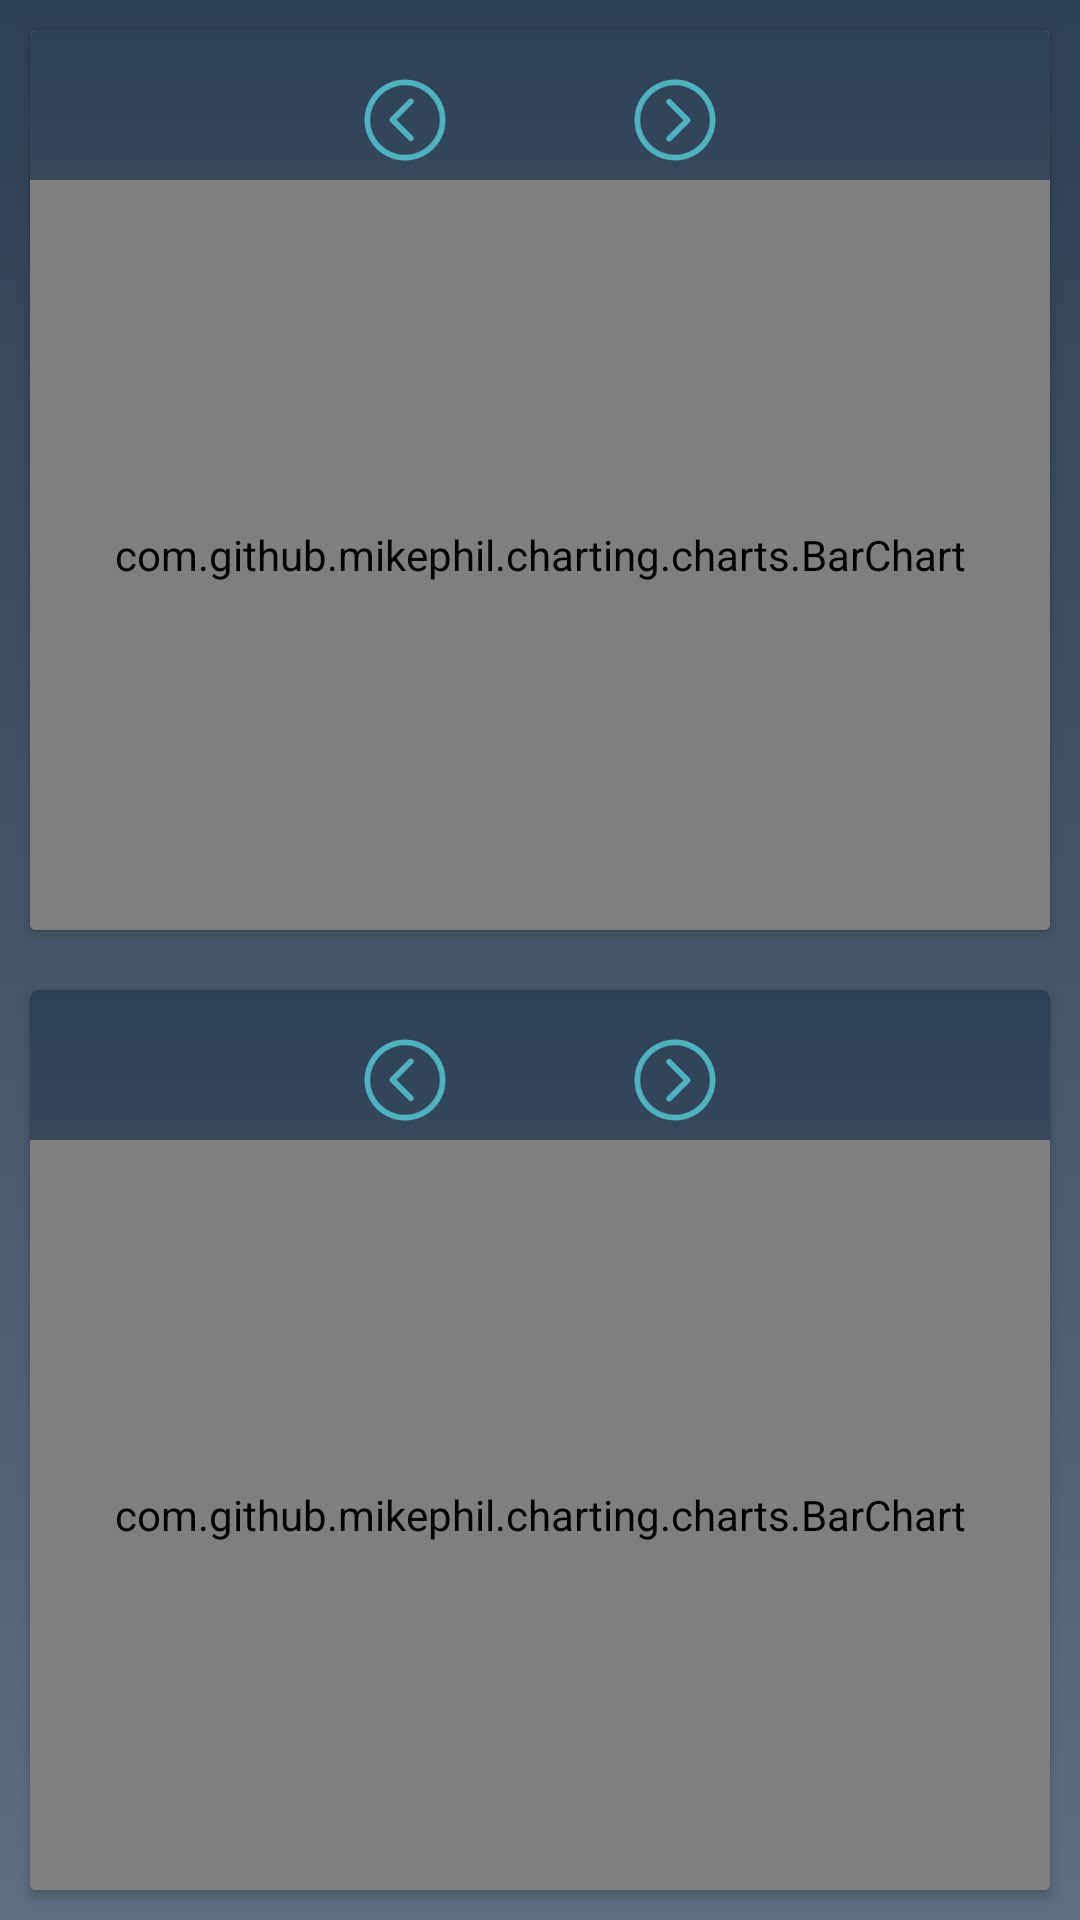

Icon click points for this 1080x1920 phone screenshot, format (x=x, y=y):
Load data for next month: (x=675, y=1080)
Load data for next week: (x=675, y=120)
Load data for previous month: (x=405, y=1080)
Load data for previous week: (x=405, y=120)
